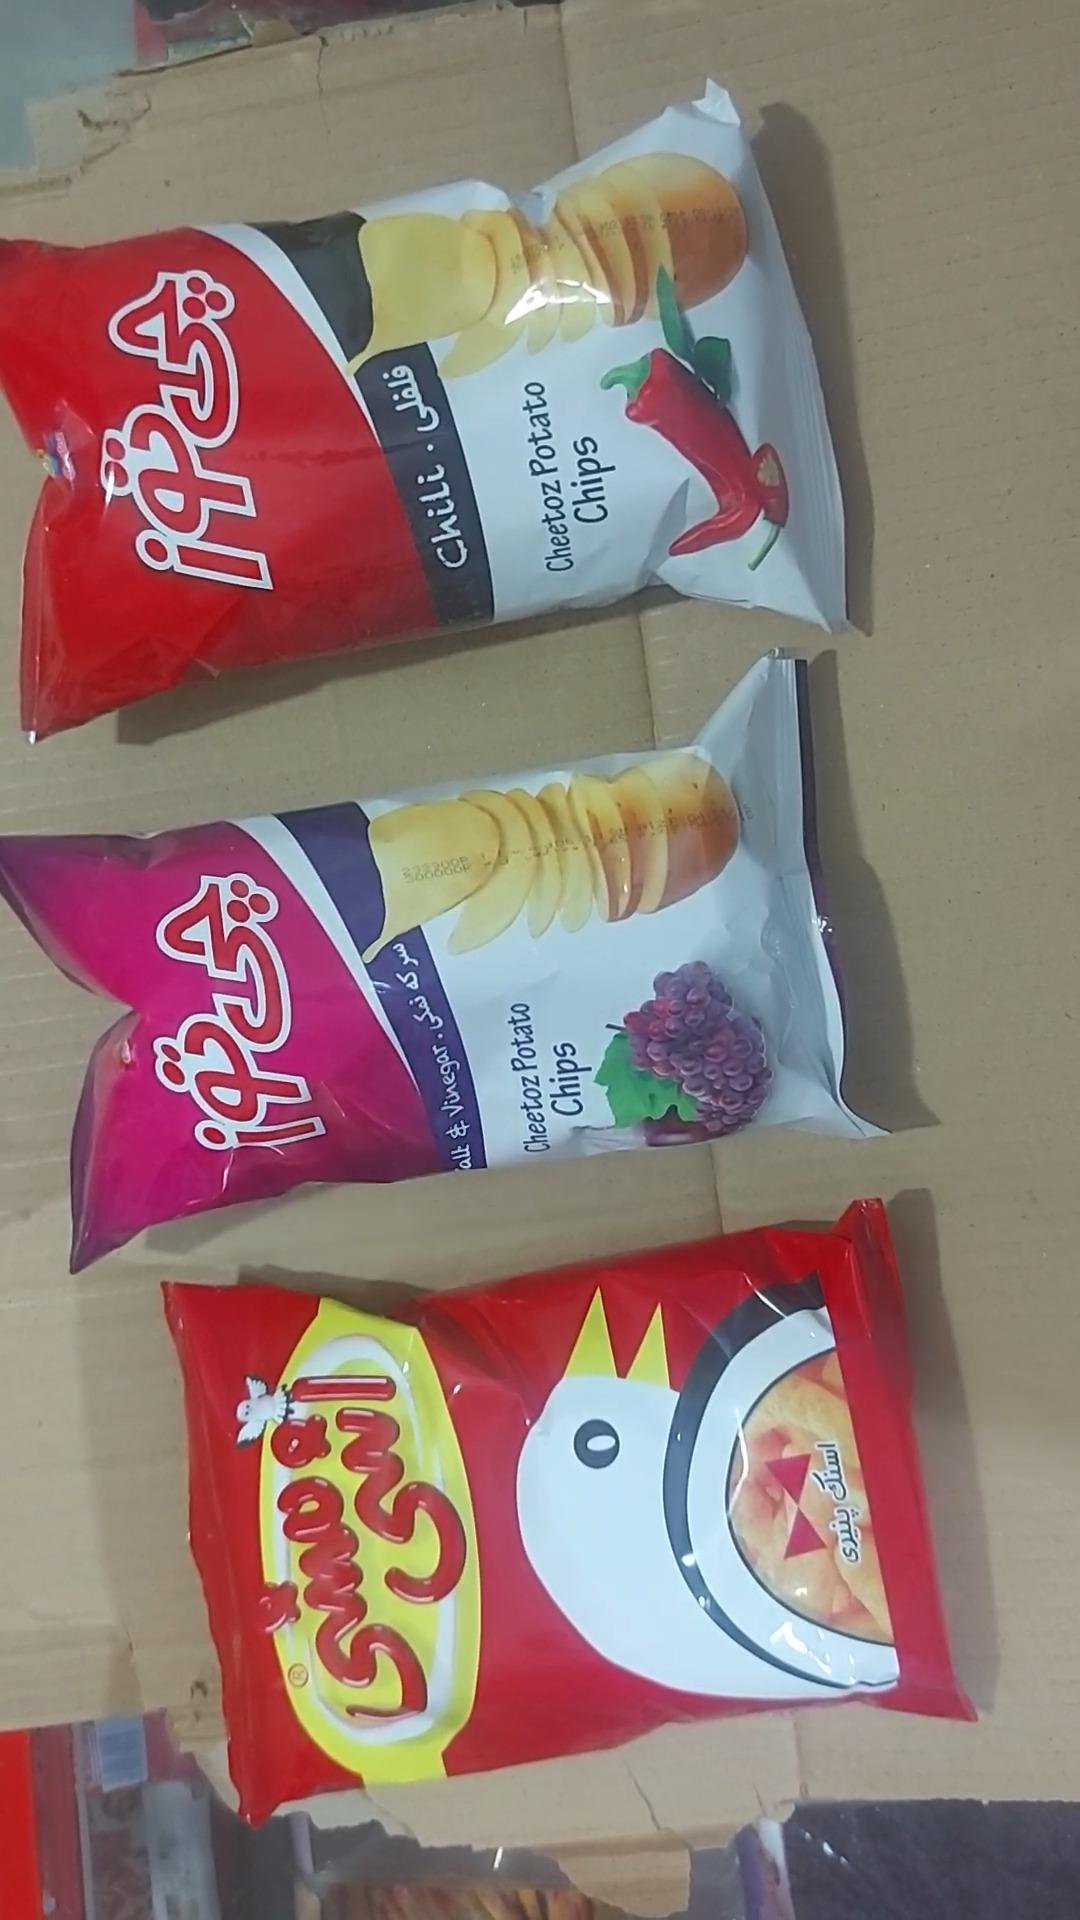Ashi Mashi snacks: (162, 1197, 980, 1832)
Cheetoz chili chips: (0, 80, 847, 746)
Cheetoz vinegar chips: (0, 646, 887, 1276)
